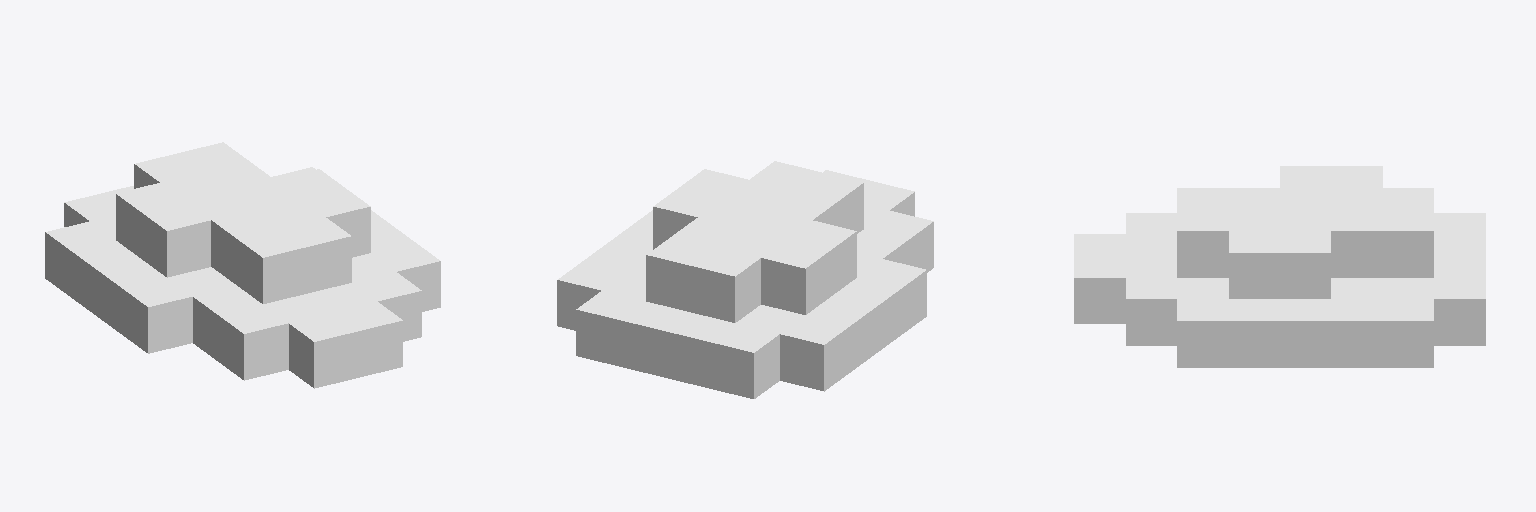
Rendered from Moss3.obj.
3 renders of one model, left to right at view 1: azimuth 30°, elevation 25°; view 2: azimuth 150°, elevation 25°; view 3: azimuth 270°, elevation 25°, orthographic.
Parts seen in each view (by area): view 1: Moss3; view 2: Moss3; view 3: Moss3.
Part boxes in pixels (x1,y1,x2,y2): Moss3: (45, 142, 440, 388); Moss3: (557, 161, 933, 398); Moss3: (1074, 166, 1485, 367).
Size of the model in its own units: 0.6 by 0.2 by 0.8.